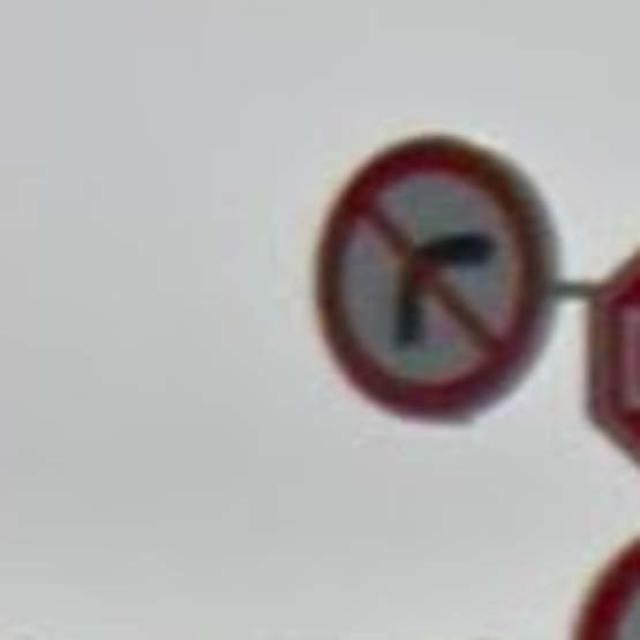sagadonulmez: (320, 135, 552, 420)
